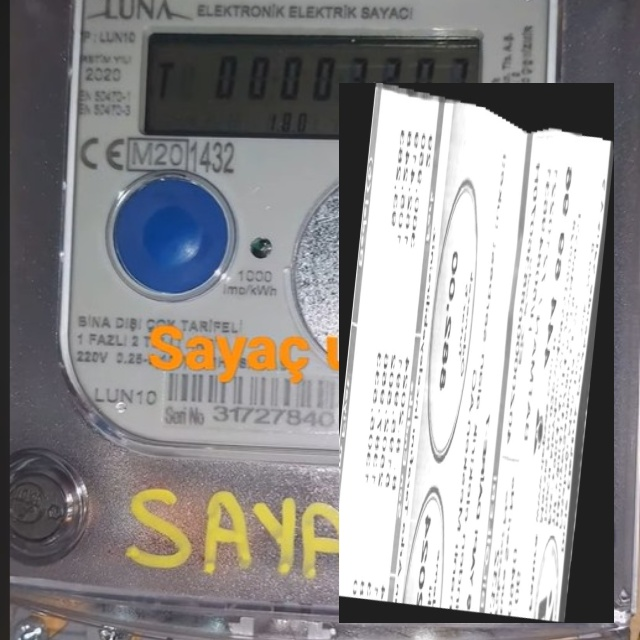electricity-bill: (338, 82, 614, 622)
